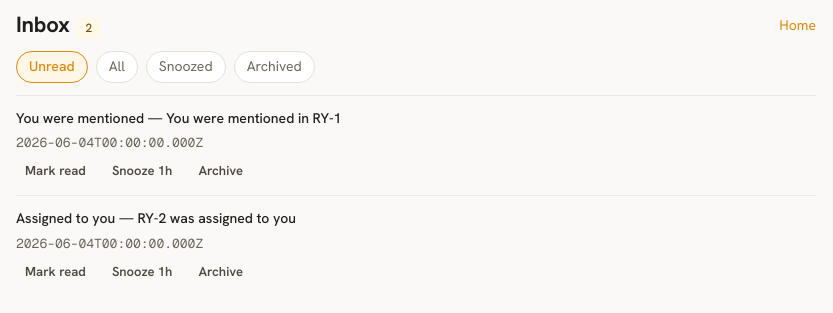
Test: InboxClient — read/snooze/archive update the unread count › archives a row: it leaves the unread list and the badge decrements
The width and height of the screenshot is (833, 313).
Expected: the number of list items with test id "inbox-row" is 2, top-left (16, 94), bottom-right (816, 195); top-left (16, 195), bottom-right (816, 296)
What coordinates should you click on to do the following:
click the button with aria-label "archive notification"
I would click on:
 (221, 170)
Its box is top-left (189, 157), bottom-right (252, 183).
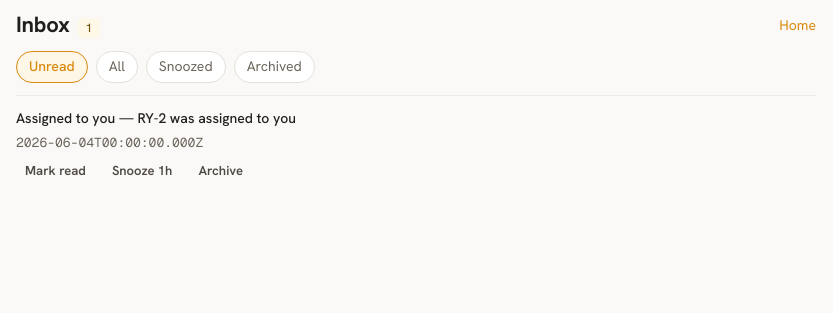
Expected: the number of list items with test id "inbox-row" is 1, top-left (16, 94), bottom-right (816, 195)
Expected: the element with test id "unread-badge" reads "1", top-left (86, 20), bottom-right (92, 36)
